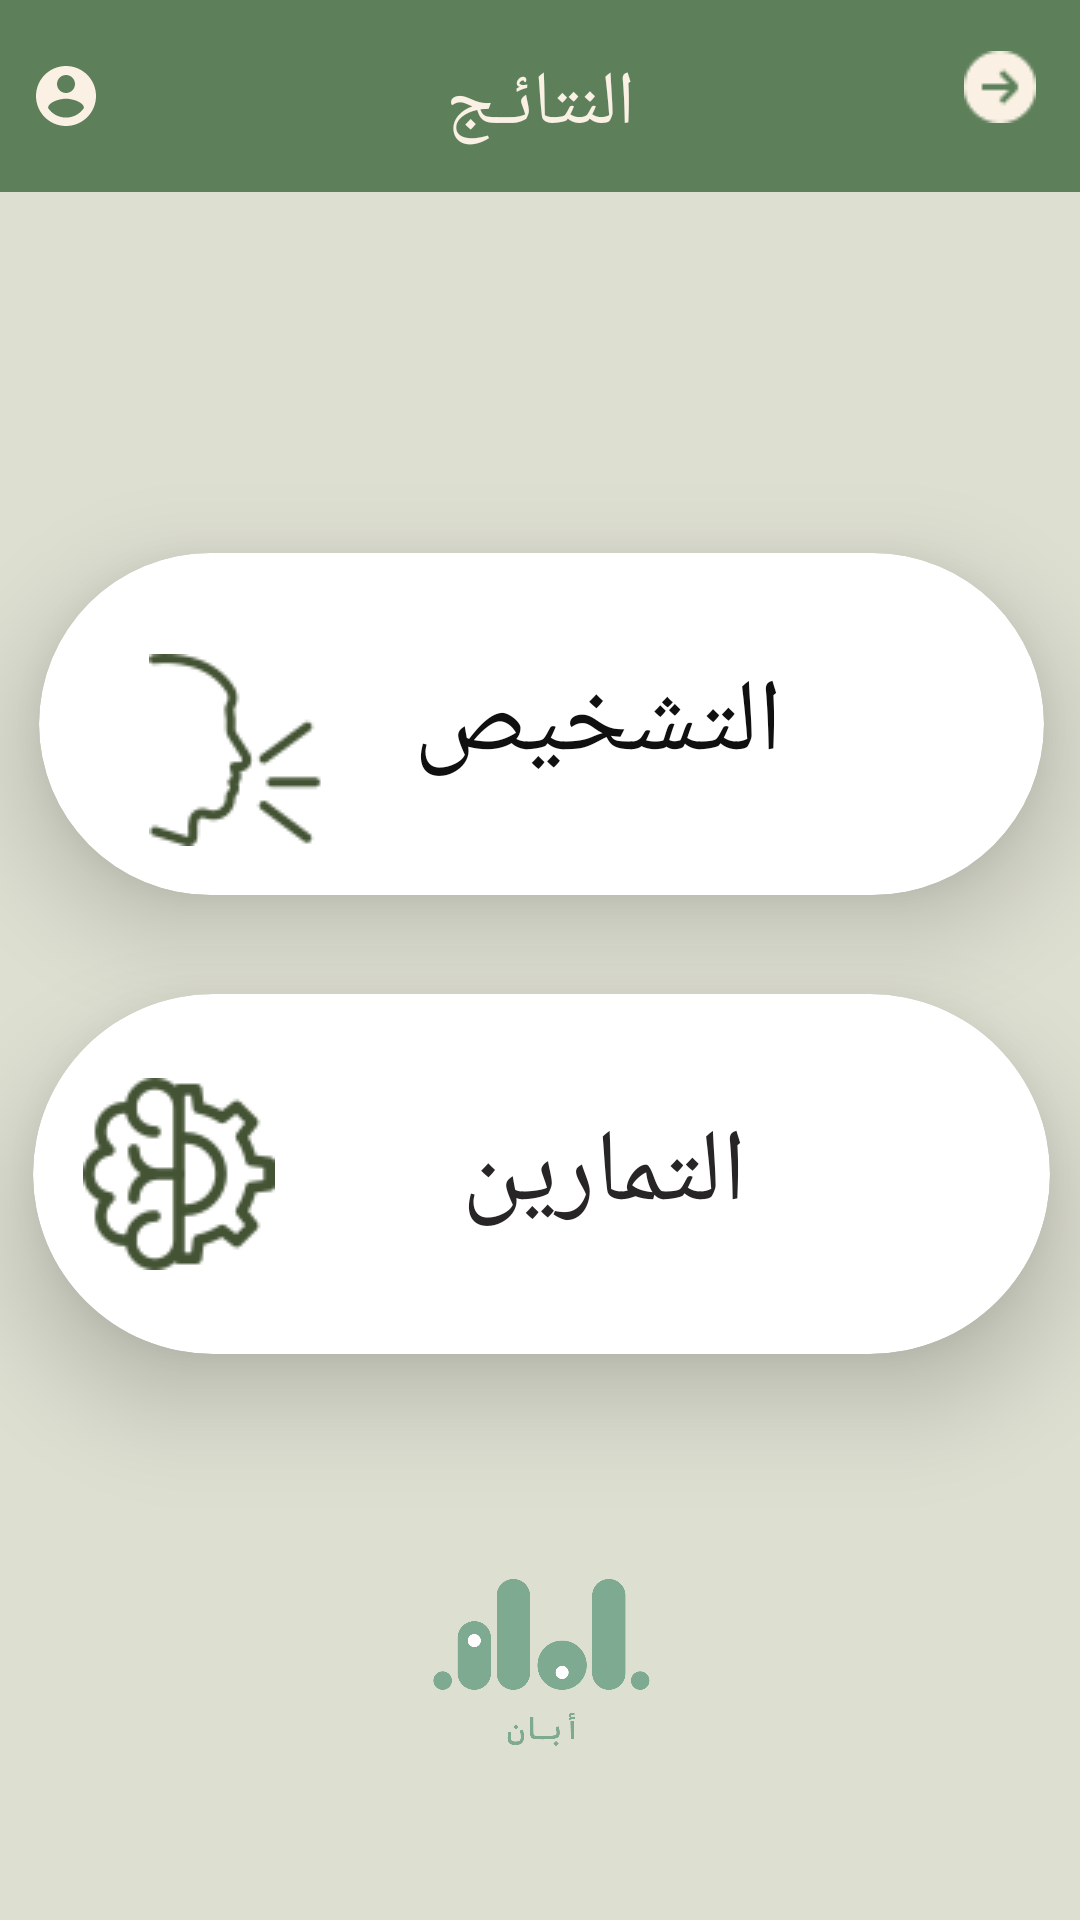

Point at icon controls on the screen. Image size 1080px x 1920px, points as [x,y].
brain: [178,1174]
